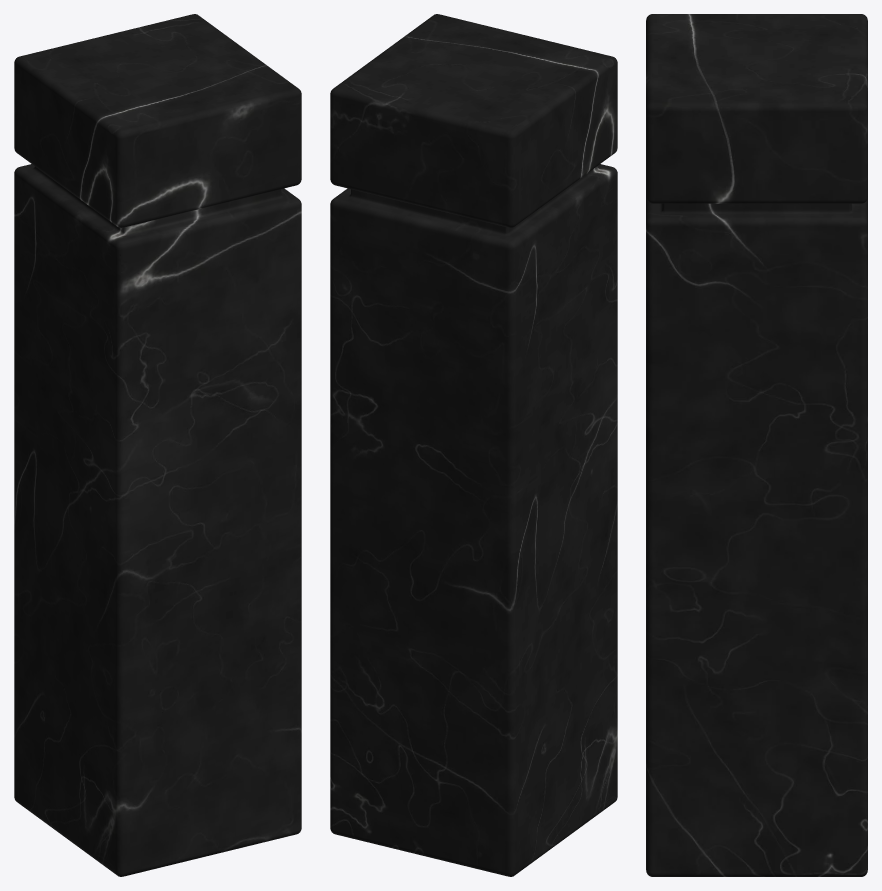
The model's file is king-black-hd.glb.
3 renders of one model, left to right at view 1: azimuth 30°, elevation 25°; view 2: azimuth 150°, elevation 25°; view 3: azimuth 270°, elevation 25°, orthographic. The views are drawn at different scales.
Parts seen in each view (by area): view 1: kral_cerny; view 2: kral_cerny; view 3: kral_cerny.
Boxes of the visible parts, bbox=[...] form: kral_cerny: bbox=[14, 14, 301, 876]; kral_cerny: bbox=[330, 14, 617, 876]; kral_cerny: bbox=[646, 14, 867, 876].
Size of the model in its own units: 0.4287 by 1.65 by 0.4287.
1 material, 1 textured.
